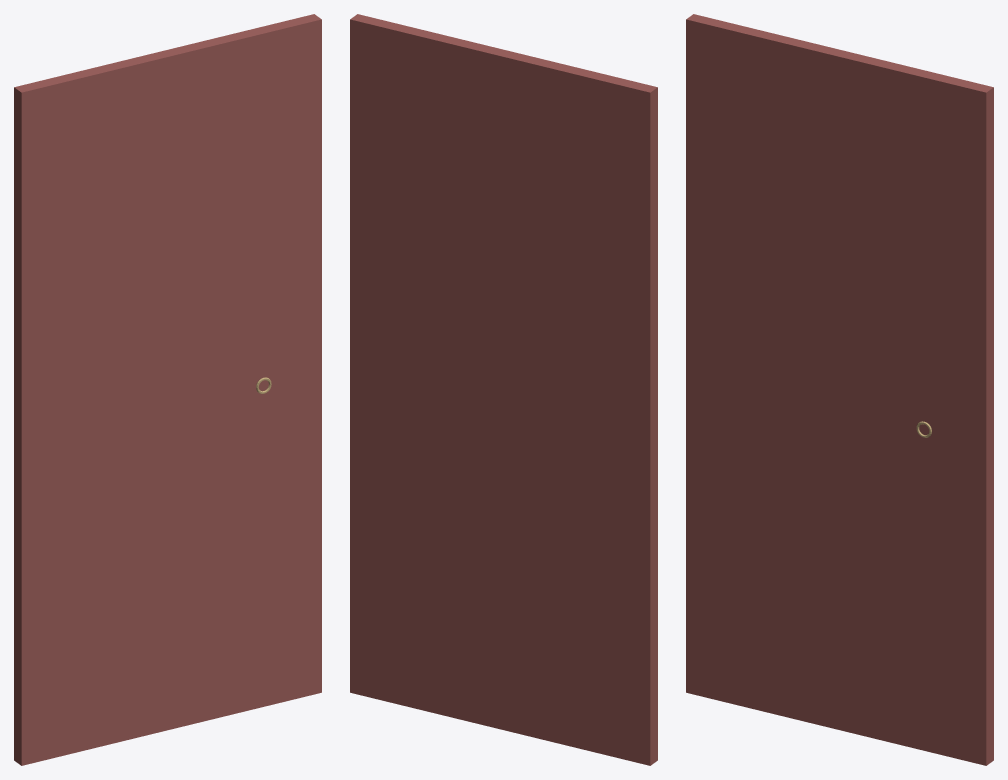
Rendered from AR-GATELEAF.glb.
3 renders of one model, left to right at view 1: azimuth 30°, elevation 25°; view 2: azimuth 150°, elevation 25°; view 3: azimuth 330°, elevation 25°, orthographic.
Parts seen in each view (by area): view 1: door_leaf; view 2: door_leaf; view 3: door_leaf.
Part boxes in pixels (left/top/right/bottom): door_leaf: left=14, top=14, right=321, bottom=765; door_leaf: left=350, top=14, right=657, bottom=765; door_leaf: left=686, top=14, right=993, bottom=765.
Bounding box in the file's own units: 2.1 × 4.5 × 0.1228.
